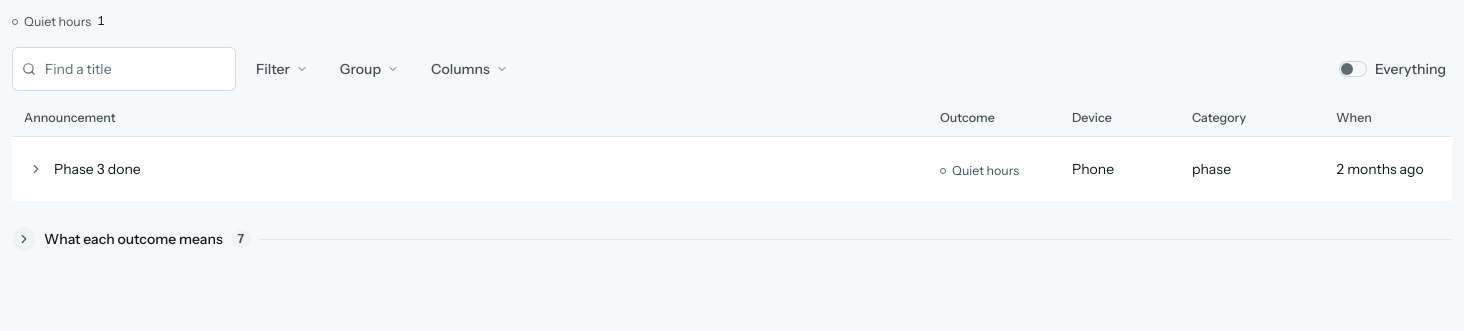
it: the ledger’s rows › a quiet row is not described as a service that stayed silent
Click the button named "Show the rest of this row".
click(36, 169)  # box [24,147,48,191]
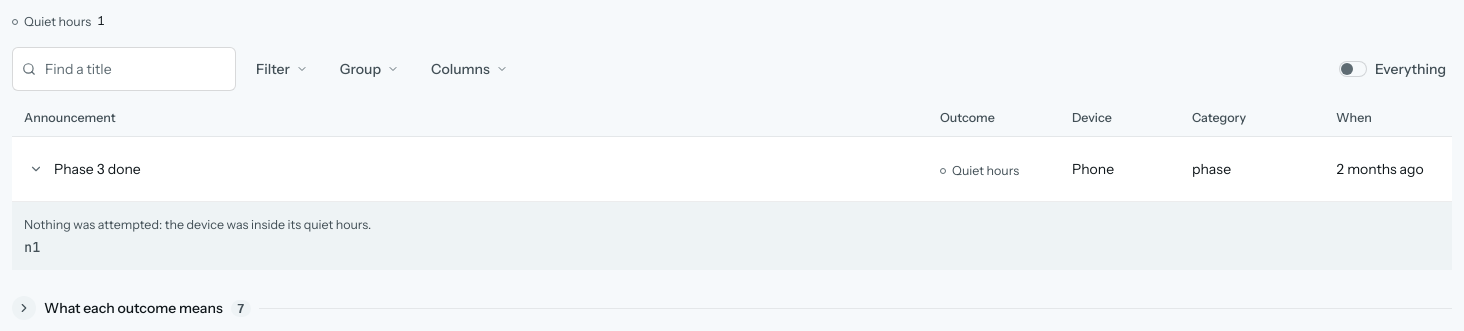
Check: the text "Nothing was attempted: the device was inside its quiet hours." is shown, box [24,217,371,232]
